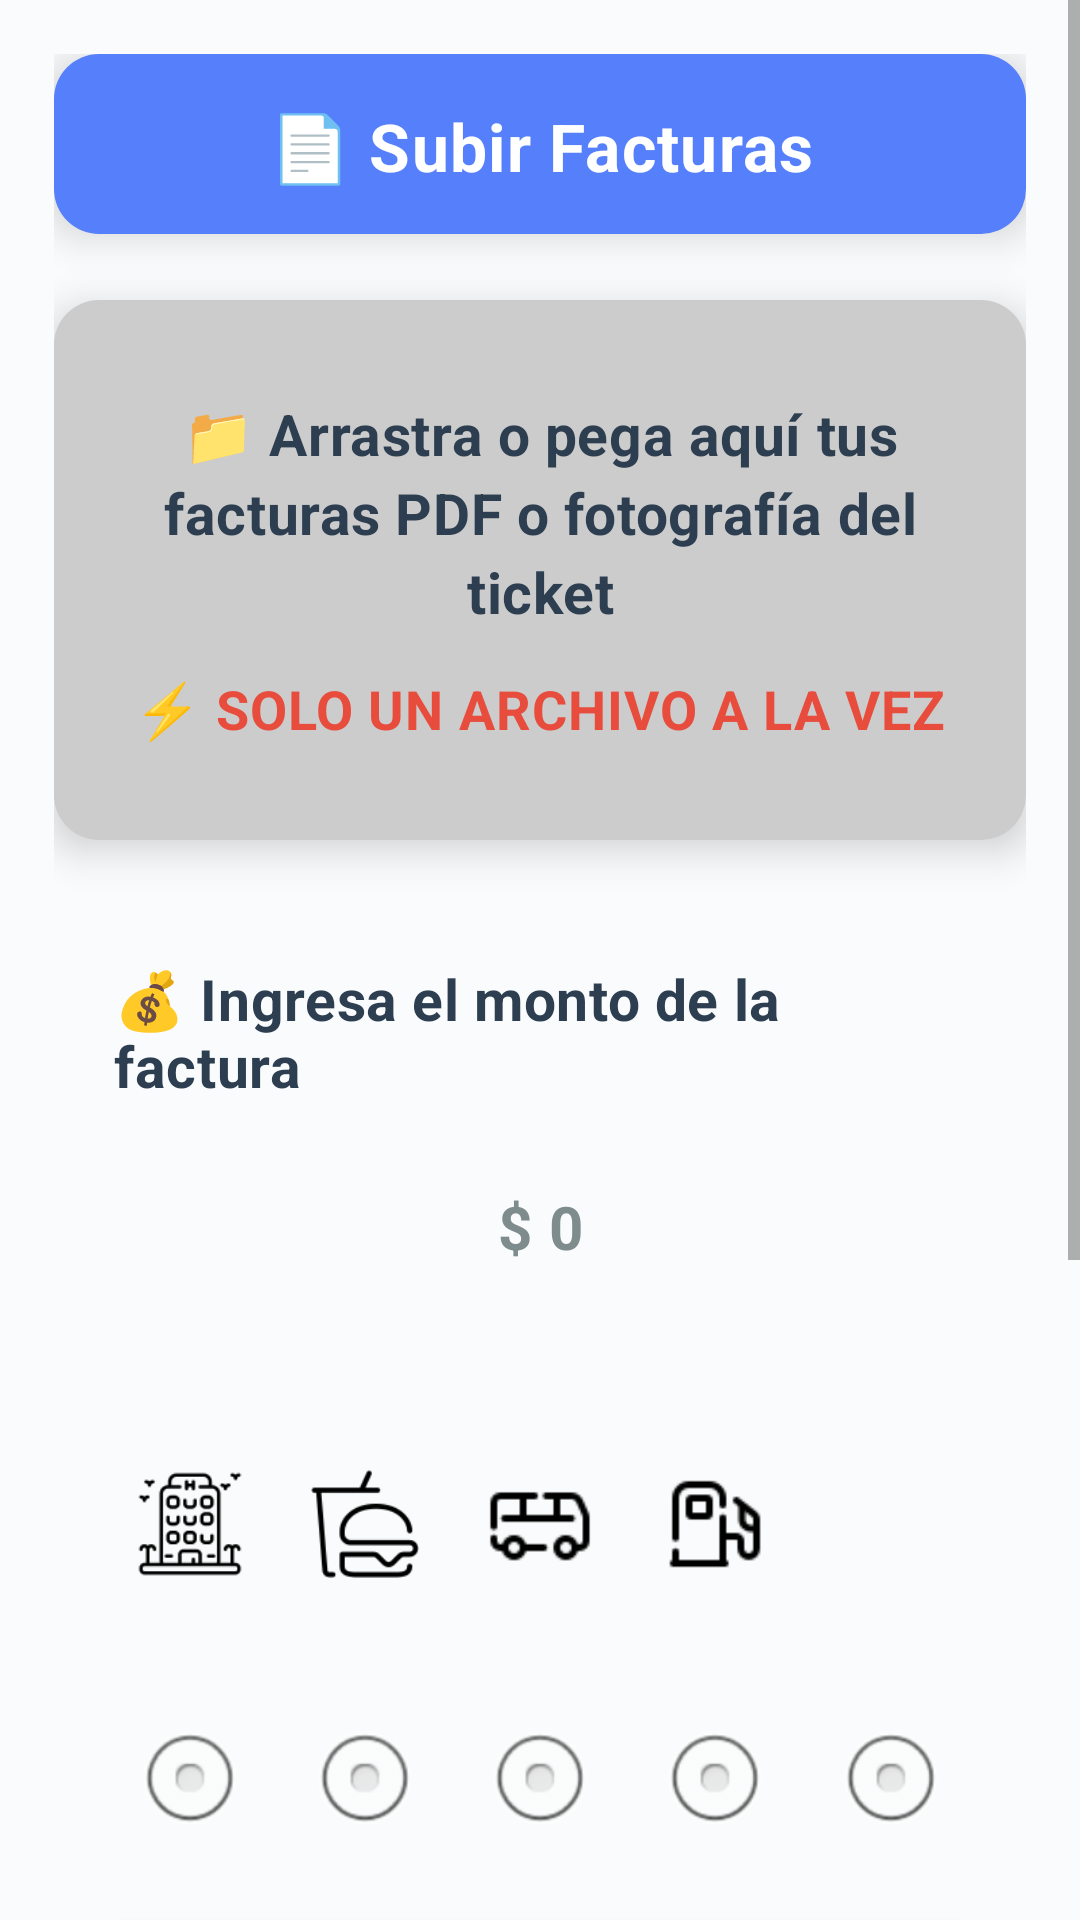

Icons on this 1080 x 1920 Android screen, each with the point to tap as (x,y):
comida: (365,1524)
gasolina: (715,1524)
hotel: (190,1524)
transporte: (540,1526)
